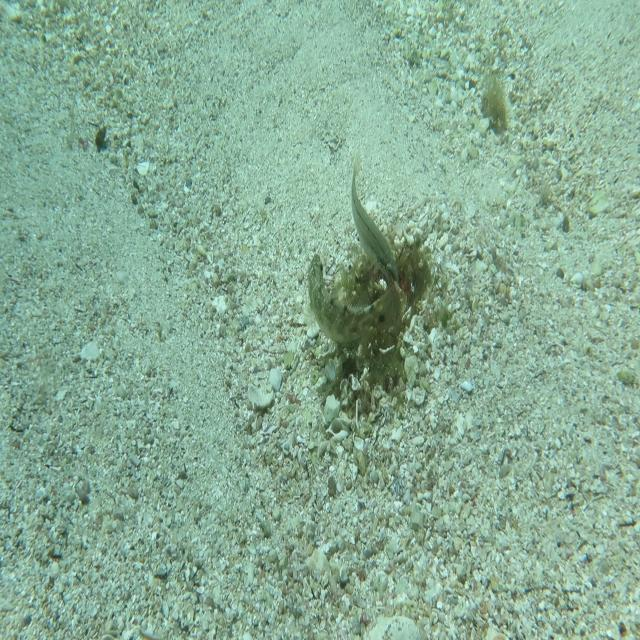BEND: (307, 252, 403, 346)
female: (350, 150, 400, 285)
nest: (316, 216, 444, 419)
